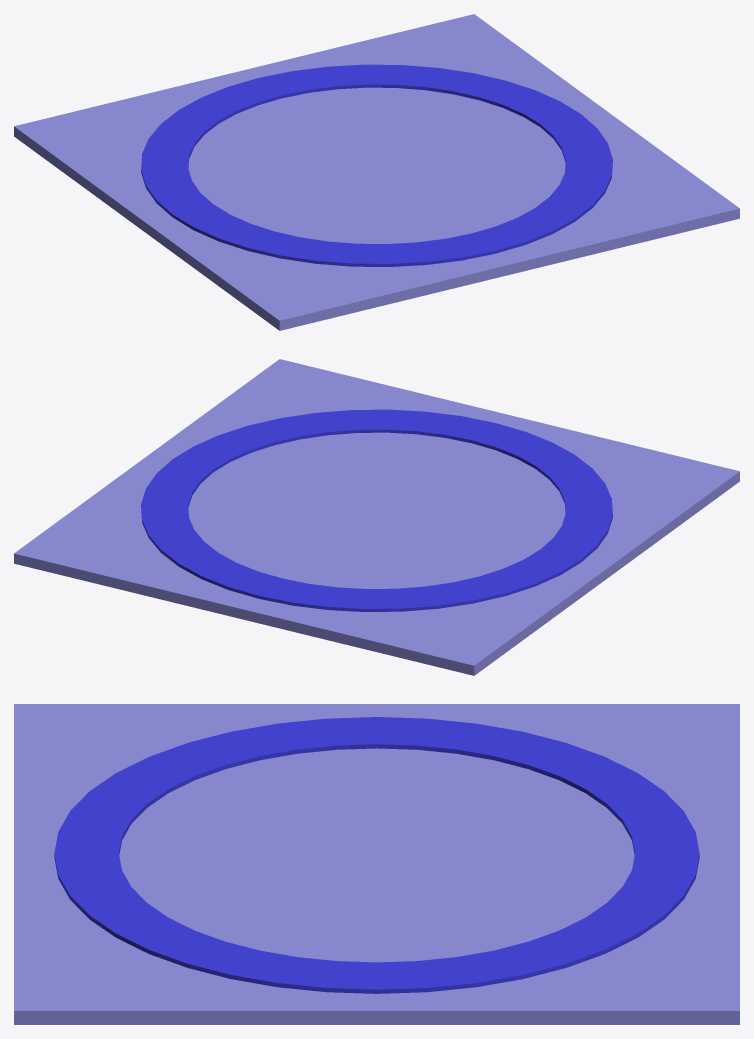
File: mark_o.fbx
3 views of the same model, one above another, from view 1: azimuth 30°, elevation 25°; view 2: azimuth 150°, elevation 25°; view 3: azimuth 270°, elevation 25° (orthographic). The views are drawn at different scales.
Visible parts, largest first — view 1: pCube3, polySurface1; view 2: pCube3, polySurface1; view 3: pCube3, polySurface1.
Part boxes in pixels (x1,y1,x2,y2): pCube3: [14, 14, 739, 330]; polySurface1: [141, 64, 612, 266]; pCube3: [14, 359, 739, 675]; polySurface1: [141, 409, 612, 611]; pCube3: [14, 704, 739, 1024]; polySurface1: [54, 717, 699, 993].
Bounding box in the file's own units: 0.9 × 0.0248 × 0.9.
